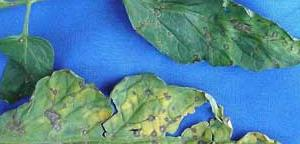Tomato Septoria leaf spot: (0, 65, 300, 144), (96, 0, 300, 83)
